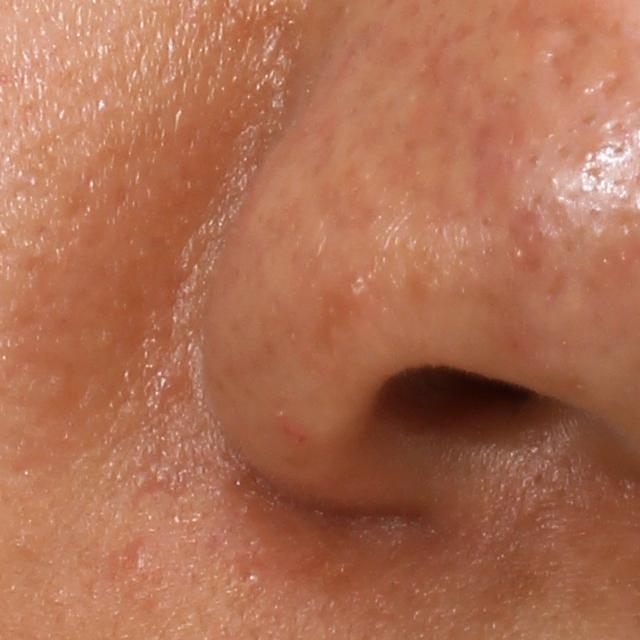papule: (122, 538, 149, 574)
